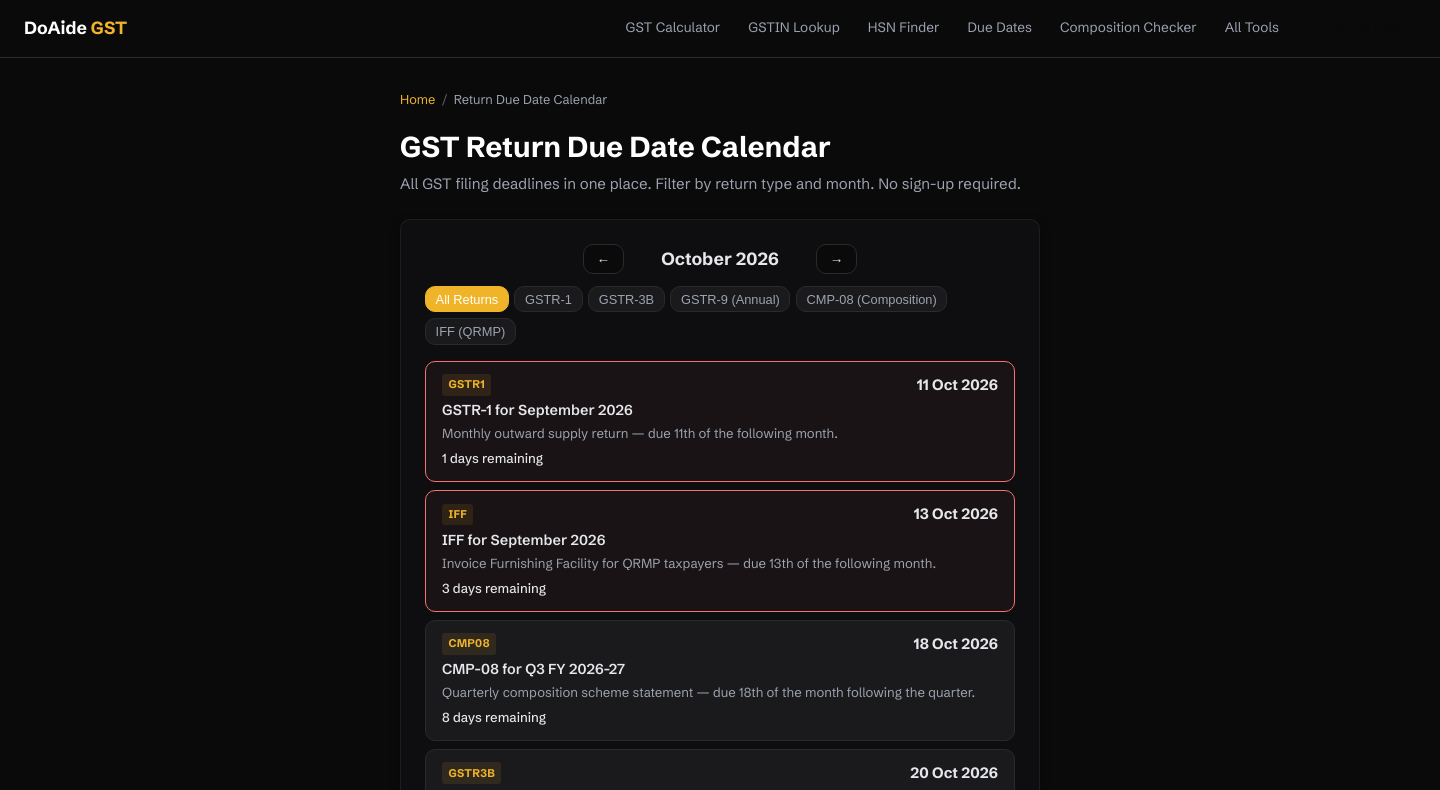
Test: ReturnDueDateCalendarPage › navigates to next month
The image size is (1440, 790).
Click the button named "Next month": [837, 259] box x1=816 y1=244 x2=857 y2=274
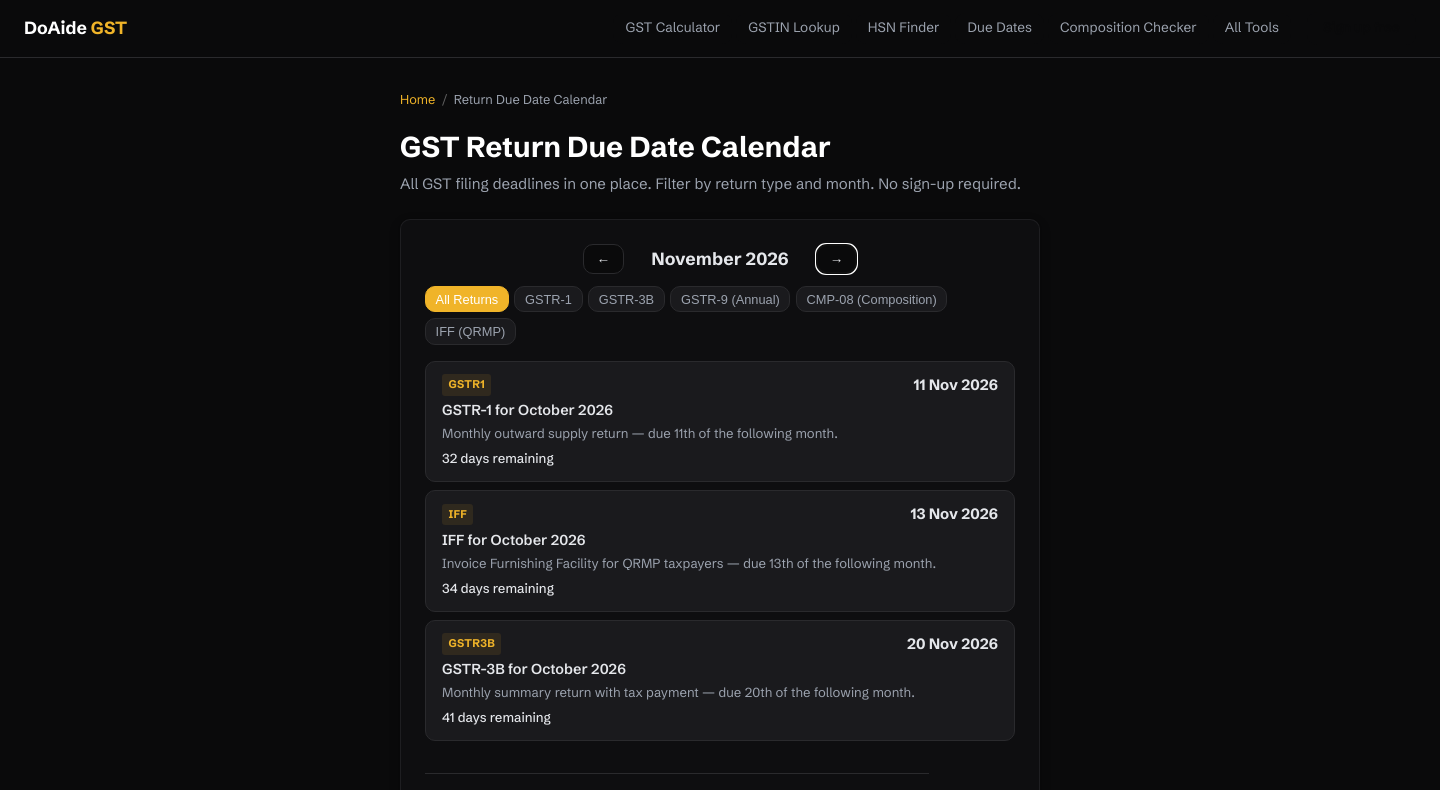
Now the text "November 2026" is shown, box x1=640 y1=246 x2=800 y2=272
